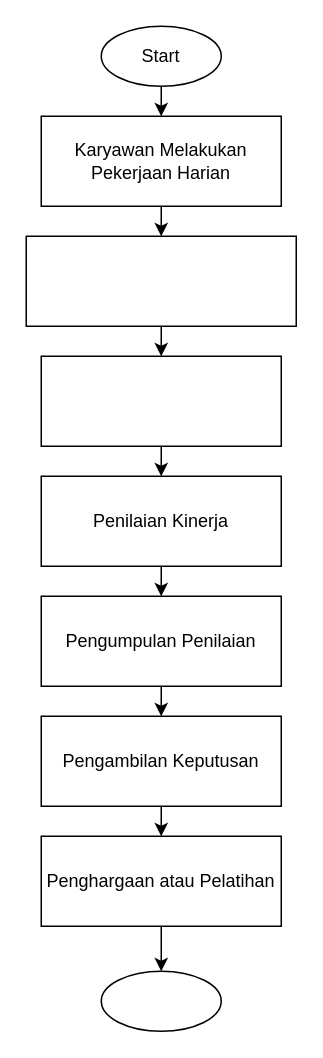
This 323x1058 diagram has some shape labels left out. Each missing label, with the centre of its shape:
End: the point at 160,1000
Evaluasi Kinerja Manual: the point at 160,400
Tim Manajemen Mengamati Kinerja Karyawan: the point at 160,280
